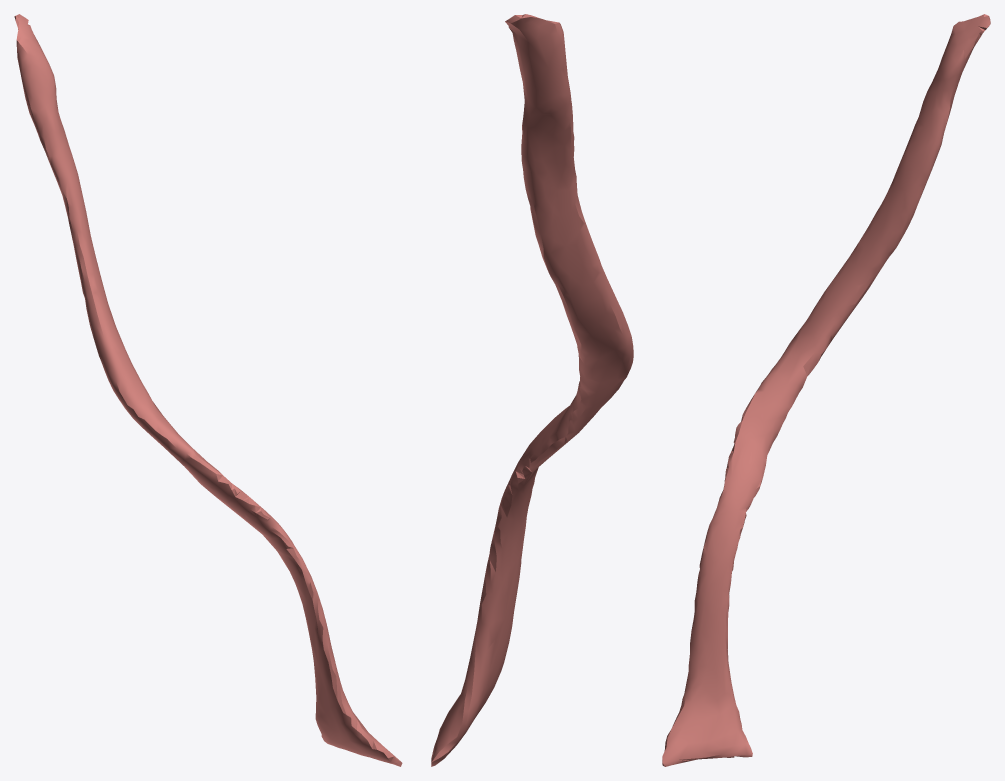
Rendered from fma47097_mm1691.glb.
3 renders of one model, left to right at view 1: azimuth 30°, elevation 25°; view 2: azimuth 150°, elevation 25°; view 3: azimuth 270°, elevation 25°, orthographic. The views are drawn at different scales.
Visible parts, largest first — view 1: FMA47097_MM1691; view 2: FMA47097_MM1691; view 3: FMA47097_MM1691.
Part boxes in pixels (bbox=[...]): FMA47097_MM1691: bbox=[14, 14, 402, 766]; FMA47097_MM1691: bbox=[431, 14, 633, 766]; FMA47097_MM1691: bbox=[662, 14, 990, 766].
Size of the model in its own units: 0.0351 by 0.0992 by 0.0452.
